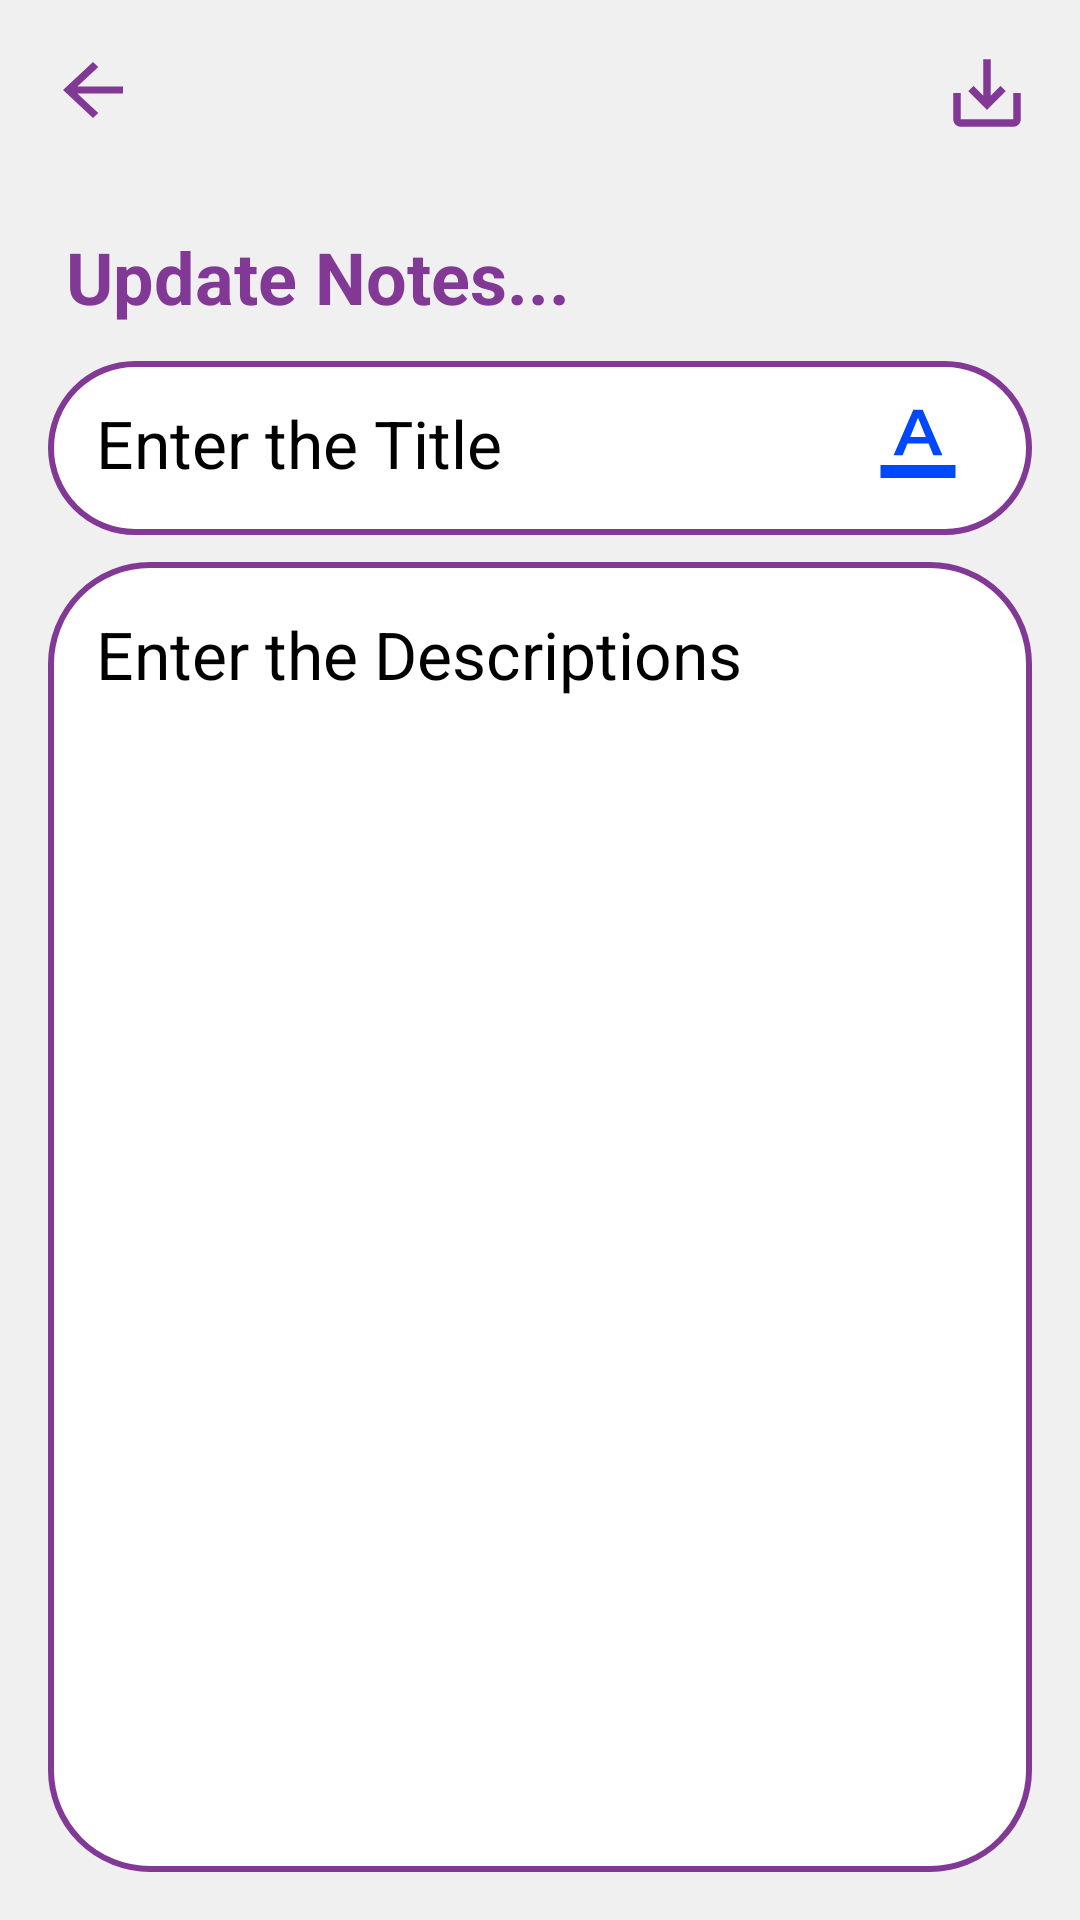

Named icons in this screenshot (1080px×1920px) and their bounding boxes, BBox(x1, y1, x2, y2):
arrow back: BBox(63, 62, 123, 118)
save: BBox(953, 59, 1021, 127)
text: BBox(880, 409, 956, 478)
